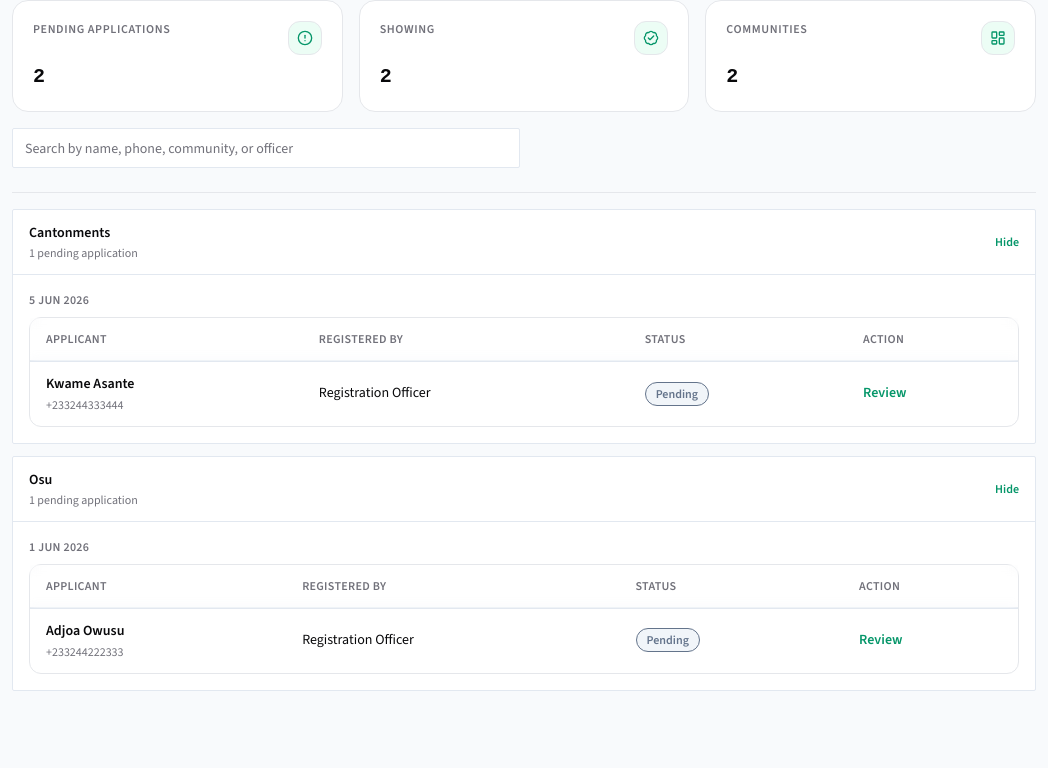
Test: PendingApplicationsQueue › filters applications by search query
Check: the cell "Kwame Asante +233244333444" is shown, box [30,361,303,426]
Type "Adjoa" into the search field named "Search pending applications".
click(266, 148); type("Adjoa")  # box [12,128,520,168]
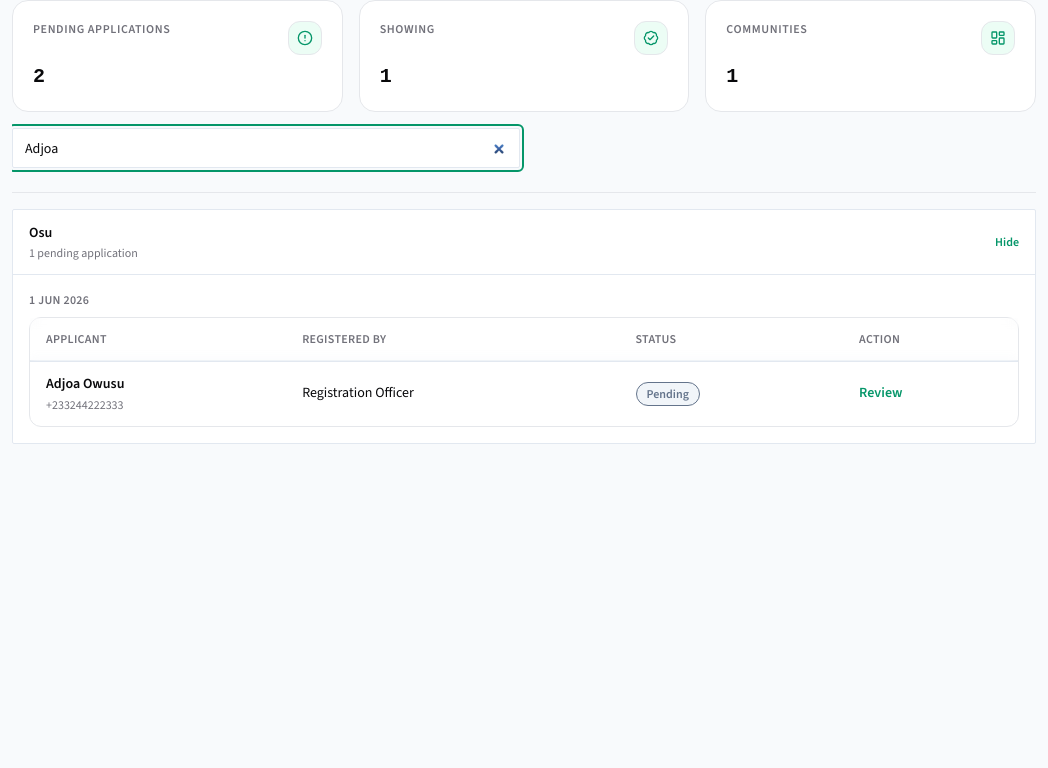
Check: the cell "Adjoa Owusu +233244222333" is shown, box [30,361,286,426]
Check: the text "Kwame Asante" is gone
